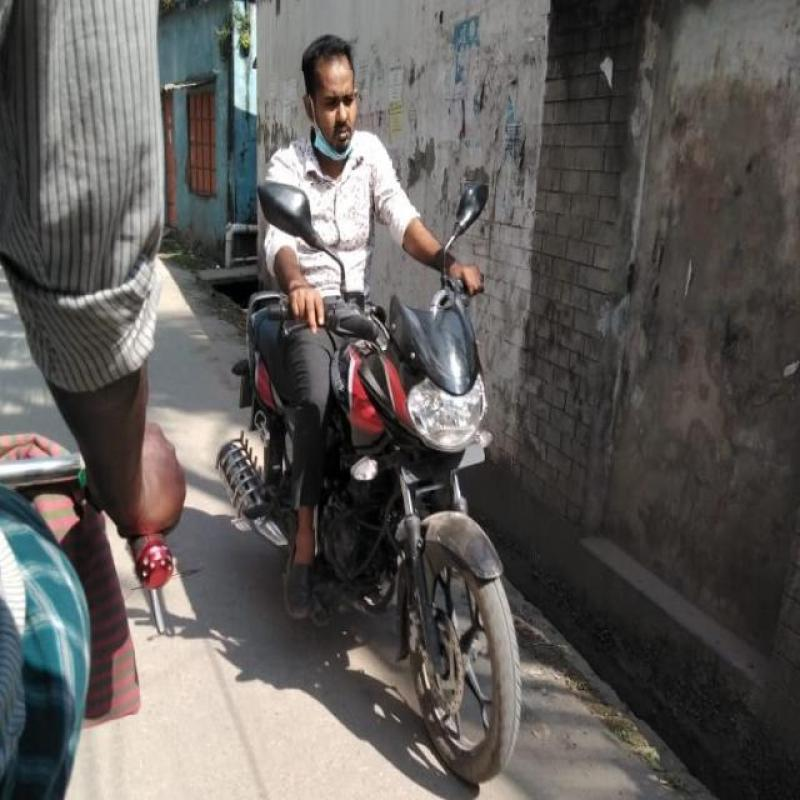nohelmet: (278, 43, 412, 182)
